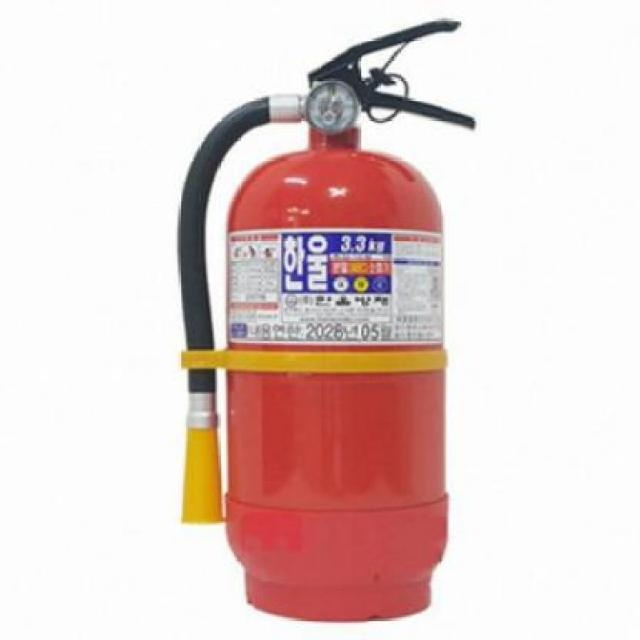fire extinguisher: (176, 18, 478, 622)
